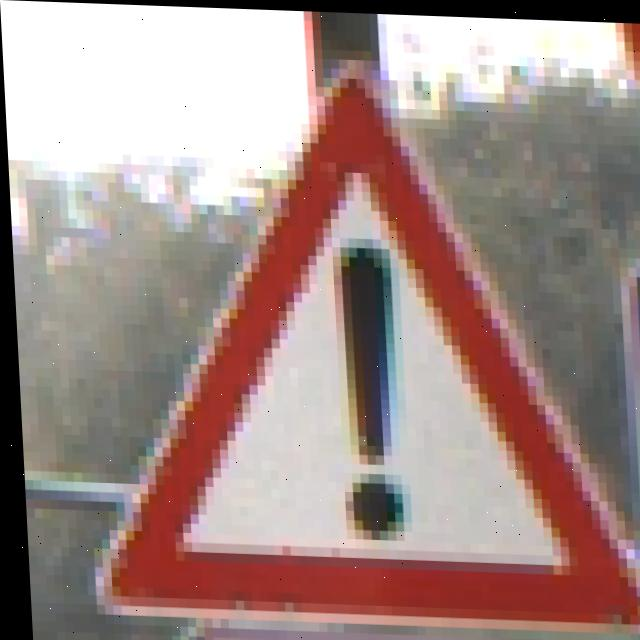warning: (100, 109, 640, 640)
